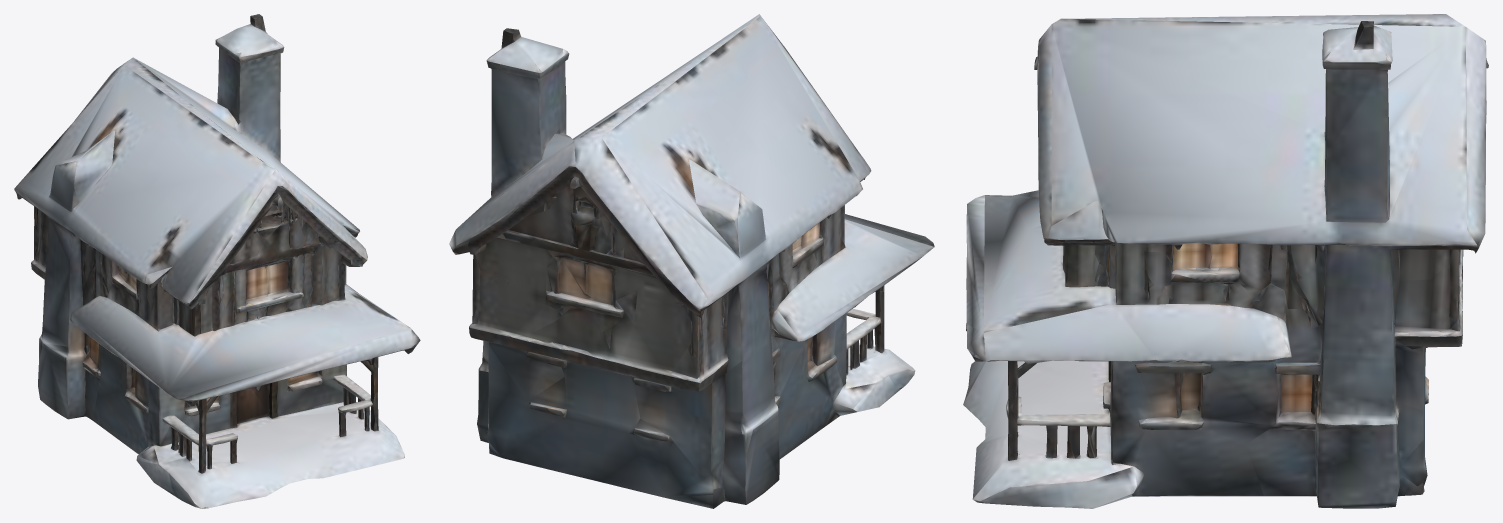
The model's file is house3.glb.
3 views of the same model, side by side, from view 1: azimuth 30°, elevation 25°; view 2: azimuth 150°, elevation 25°; view 3: azimuth 270°, elevation 25° (orthographic). The views are drawn at different scales.
Visible parts, largest first — view 1: Mesh; view 2: Mesh; view 3: Mesh.
Part boxes in pixels (bbox=[...]): Mesh: bbox=[14, 14, 420, 508]; Mesh: bbox=[449, 14, 934, 508]; Mesh: bbox=[963, 14, 1488, 508].
Bounding box in the file's own units: 1.41 × 1.88 × 1.88.
1 material, 1 textured.
